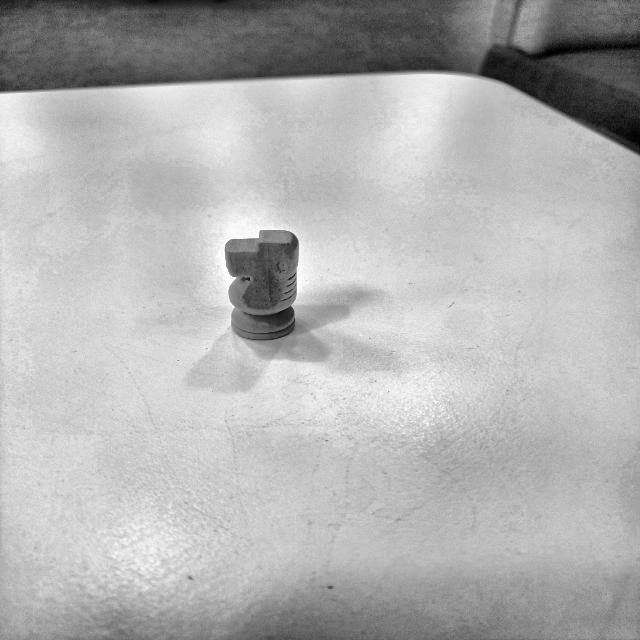white-knight: (225, 229, 299, 342)
